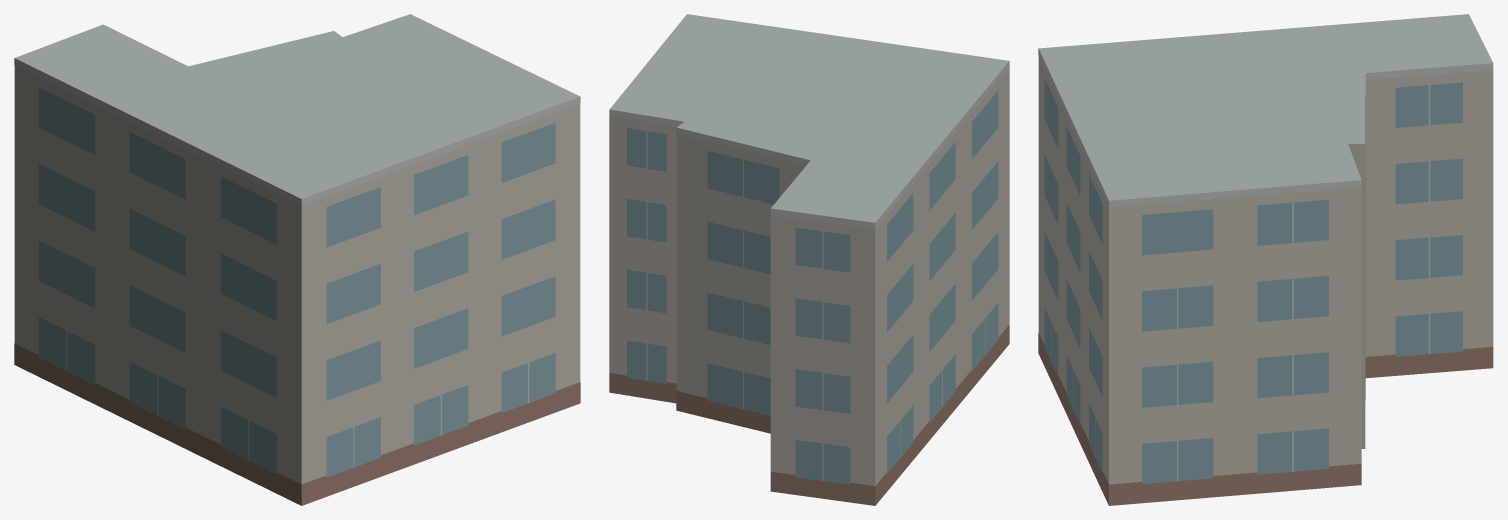
Rendered from survey-upis-33020798.glb.
The picture shows the model from 3 angles, left to right: view 1: azimuth 30°, elevation 25°; view 2: azimuth 150°, elevation 25°; view 3: azimuth 270°, elevation 25°; orthographic projection. The views are drawn at different scales.
Visible parts, largest first — view 1: survey-upis-33020798.tmp; view 2: survey-upis-33020798.tmp; view 3: survey-upis-33020798.tmp.
Boxes of the visible parts, x1,y1,x2,y2 form: survey-upis-33020798.tmp: (14,14,580,505); survey-upis-33020798.tmp: (609,14,1009,505); survey-upis-33020798.tmp: (1038,14,1493,505).
Size of the model in its own units: 14.13 by 10.75 by 14.53.
